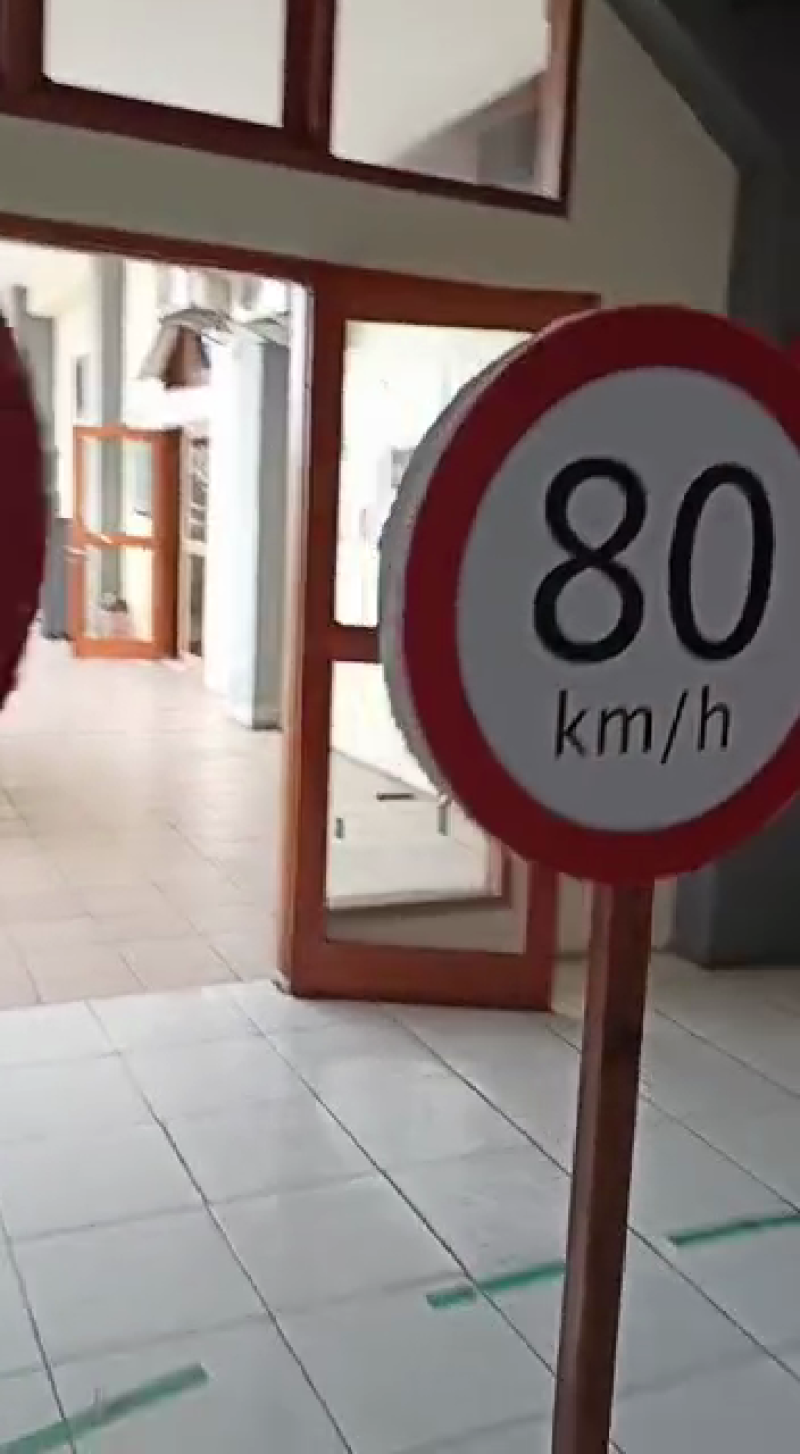batas maksimal 80kmperjam: (389, 290, 800, 895)
